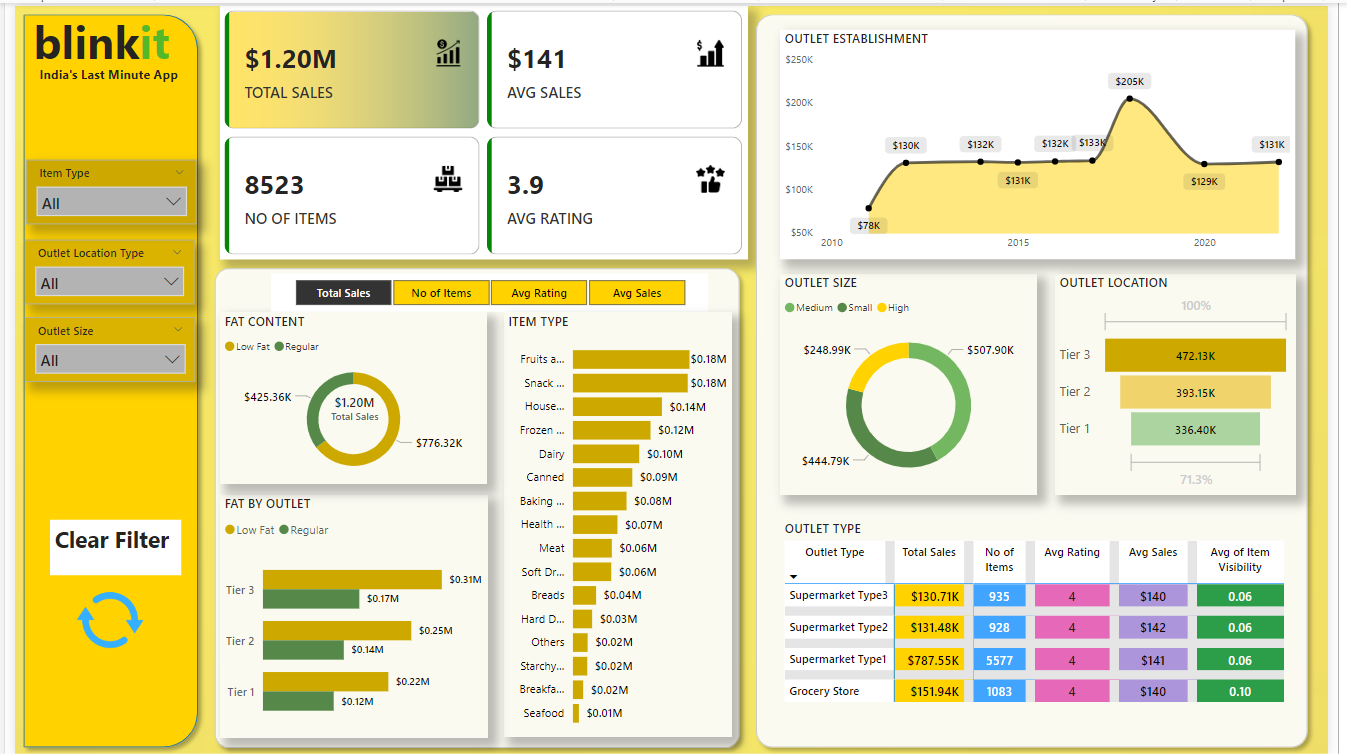

Layout of this report page (visuals, bound fields, positions):
{"tool":"powerbi","page":{"name":"Page 1","canvas":[1400,800],"ordinal":0},"visuals":[{"type":"shape","box":[0,0,204.1,800],"z":0},{"type":"textbox","box":[15,0,174.1,91.6],"z":1000},{"type":"textbox","box":[10.5,58.5,178.6,33],"z":2000},{"type":"cardVisual","fields":{"Data":["BlinkIT Grocery Data.Total Sales","BlinkIT Grocery Data.Avg Sales","BlinkIT Grocery Data.No of Items","BlinkIT Grocery Data.Avg Rating"]},"box":[219.1,0,562.8,270.2],"z":3000},{"type":"shape","box":[204.1,270.2,577.8,529.8],"z":4000},{"type":"donutChart","title":"FAT CONTENT","fields":{"Y":["BlinkIT Grocery Data.Total Sales"],"Category":["BlinkIT Grocery Data.Item Fat Content"]},"box":[219.1,327.2,285.2,183.1],"z":5000},{"type":"slicer","fields":{"Values":["Parameter.Parameter"]},"box":[273.2,285.2,465.3,40.5],"z":6000},{"type":"cardVisual","fields":{"Data":["BlinkIT Grocery Data.Total Sales"]},"box":[292.7,366.2,138.1,124.6],"z":7000},{"type":"clusteredBarChart","title":"FAT BY OUTLET","fields":{"Y":["BlinkIT Grocery Data.Total Sales"],"Category":["BlinkIT Grocery Data.Outlet Location Type"],"Series":["BlinkIT Grocery Data.Item Fat Content"]},"box":[219.1,520.8,286.7,259.6],"z":8000},{"type":"barChart","title":"ITEM TYPE","fields":{"Y":["BlinkIT Grocery Data.Total Sales"],"Category":["BlinkIT Grocery Data.Item Type"]},"box":[520.8,327.2,243.1,453.3],"z":9000},{"type":"shape","box":[781.9,0,606.3,800],"z":10000},{"type":"lineChart","title":"OUTLET ESTABLISHMENT","fields":{"Y":["BlinkIT Grocery Data.Total Sales"],"Category":["BlinkIT Grocery Data.Outlet Establishment Year"]},"box":[816.5,25.5,549.3,244.6],"z":11000},{"type":"donutChart","title":"OUTLET SIZE","fields":{"Y":["BlinkIT Grocery Data.Total Sales"],"Category":["BlinkIT Grocery Data.Outlet Size"]},"box":[816.5,285.2,274.7,235.6],"z":12000},{"type":"funnel","title":"OUTLET LOCATION","fields":{"Y":["Sum(BlinkIT Grocery Data.Sales)"],"Category":["BlinkIT Grocery Data.Outlet Location Type"]},"box":[1109.1,285.2,256.6,235.6],"z":13000},{"type":"pivotTable","title":"OUTLET TYPE","fields":{"Rows":["BlinkIT Grocery Data.Outlet Type"],"Values":["BlinkIT Grocery Data.Total Sales","BlinkIT Grocery Data.No of Items","BlinkIT Grocery Data.Avg Rating","BlinkIT Grocery Data.Avg Sales","Avg(BlinkIT Grocery Data.Item Visibility)"]},"box":[816.5,547.8,549.3,219.1],"z":14000},{"type":"slicer","fields":{"Values":["BlinkIT Grocery Data.Outlet Location Type"]},"box":[11.2,249.5,180.6,68.9],"z":15000},{"type":"slicer","fields":{"Values":["BlinkIT Grocery Data.Outlet Size"]},"box":[10.5,331.7,181.6,69],"z":16000},{"type":"slicer","fields":{"Values":["BlinkIT Grocery Data.Item Type"]},"box":[12,163.6,181.6,69],"z":17000},{"type":"image","box":[50.3,606.9,102.4,98.7],"z":17001},{"type":"textbox","box":[37.2,547.3,139.6,59.6],"z":17002}]}

Visuals, with their boxes in screenshot pixels (x1, y1, x2, y2), scaled from the page's 1400x800 canvas onto the 1347x754 screenshot:
shape: (left=0, top=0, right=196, bottom=753)
textbox: (left=14, top=0, right=182, bottom=86)
textbox: (left=10, top=55, right=182, bottom=86)
cardVisual - BlinkIT Grocery Data.Total Sales x BlinkIT Grocery Data.Avg Sales: (left=211, top=0, right=752, bottom=255)
shape: (left=196, top=255, right=752, bottom=753)
"FAT CONTENT" donutChart: (left=211, top=308, right=485, bottom=481)
slicer - Parameter.Parameter: (left=263, top=269, right=711, bottom=307)
cardVisual - BlinkIT Grocery Data.Total Sales: (left=282, top=345, right=414, bottom=463)
"FAT BY OUTLET" clusteredBarChart: (left=211, top=491, right=487, bottom=736)
"ITEM TYPE" barChart: (left=501, top=308, right=735, bottom=736)
shape: (left=752, top=0, right=1336, bottom=753)
"OUTLET ESTABLISHMENT" lineChart: (left=786, top=24, right=1314, bottom=255)
"OUTLET SIZE" donutChart: (left=786, top=269, right=1050, bottom=491)
"OUTLET LOCATION" funnel: (left=1067, top=269, right=1314, bottom=491)
"OUTLET TYPE" pivotTable: (left=786, top=516, right=1314, bottom=723)
slicer - BlinkIT Grocery Data.Outlet Location Type: (left=11, top=235, right=185, bottom=300)
slicer - BlinkIT Grocery Data.Outlet Size: (left=10, top=313, right=185, bottom=378)
slicer - BlinkIT Grocery Data.Item Type: (left=12, top=154, right=186, bottom=219)
image: (left=48, top=572, right=147, bottom=665)
textbox: (left=36, top=516, right=170, bottom=572)
